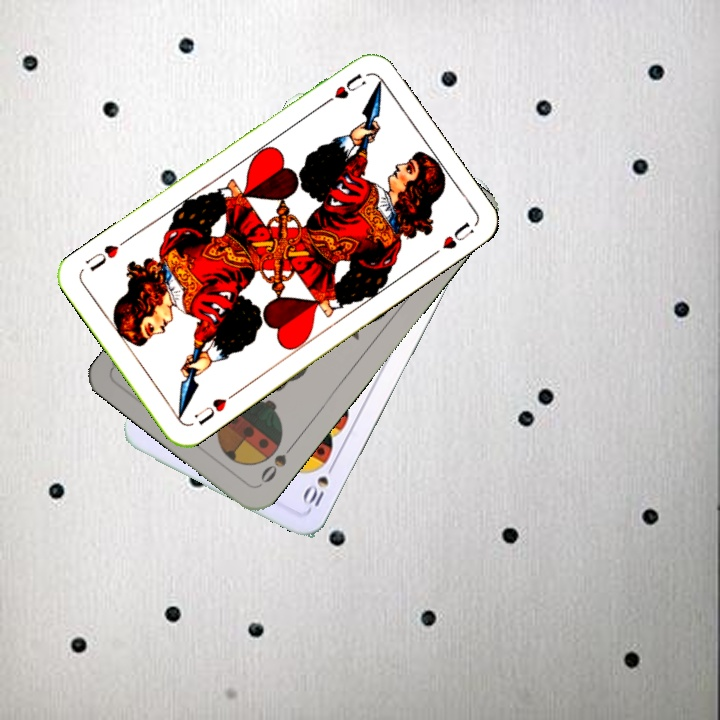HU: (317, 69, 368, 109), (190, 389, 238, 428)
S10: (299, 458, 339, 510)
SO: (254, 439, 297, 489)
